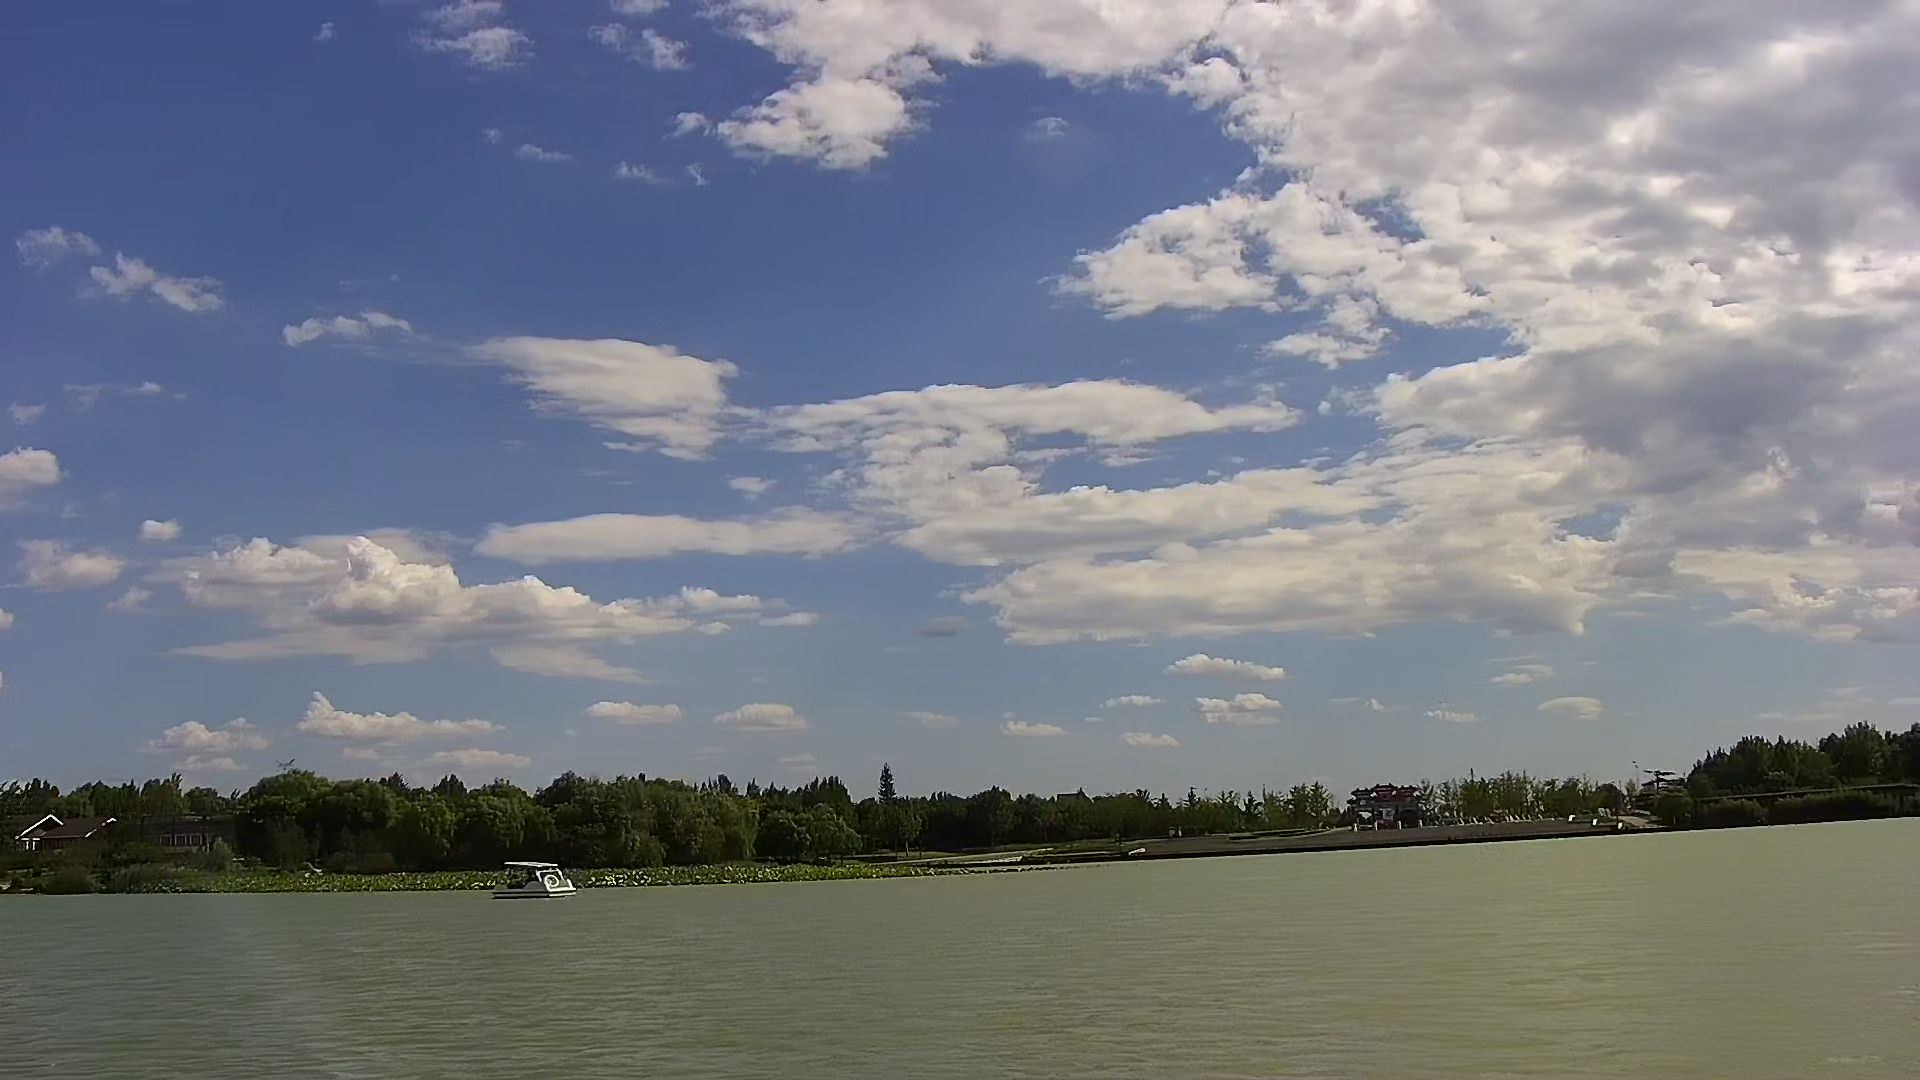boat: (489, 855, 578, 901)
